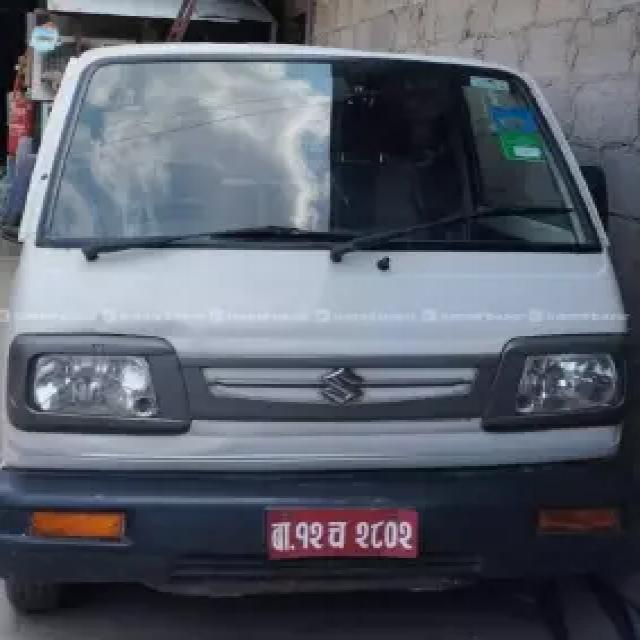License-plate: (262, 508, 418, 557)
